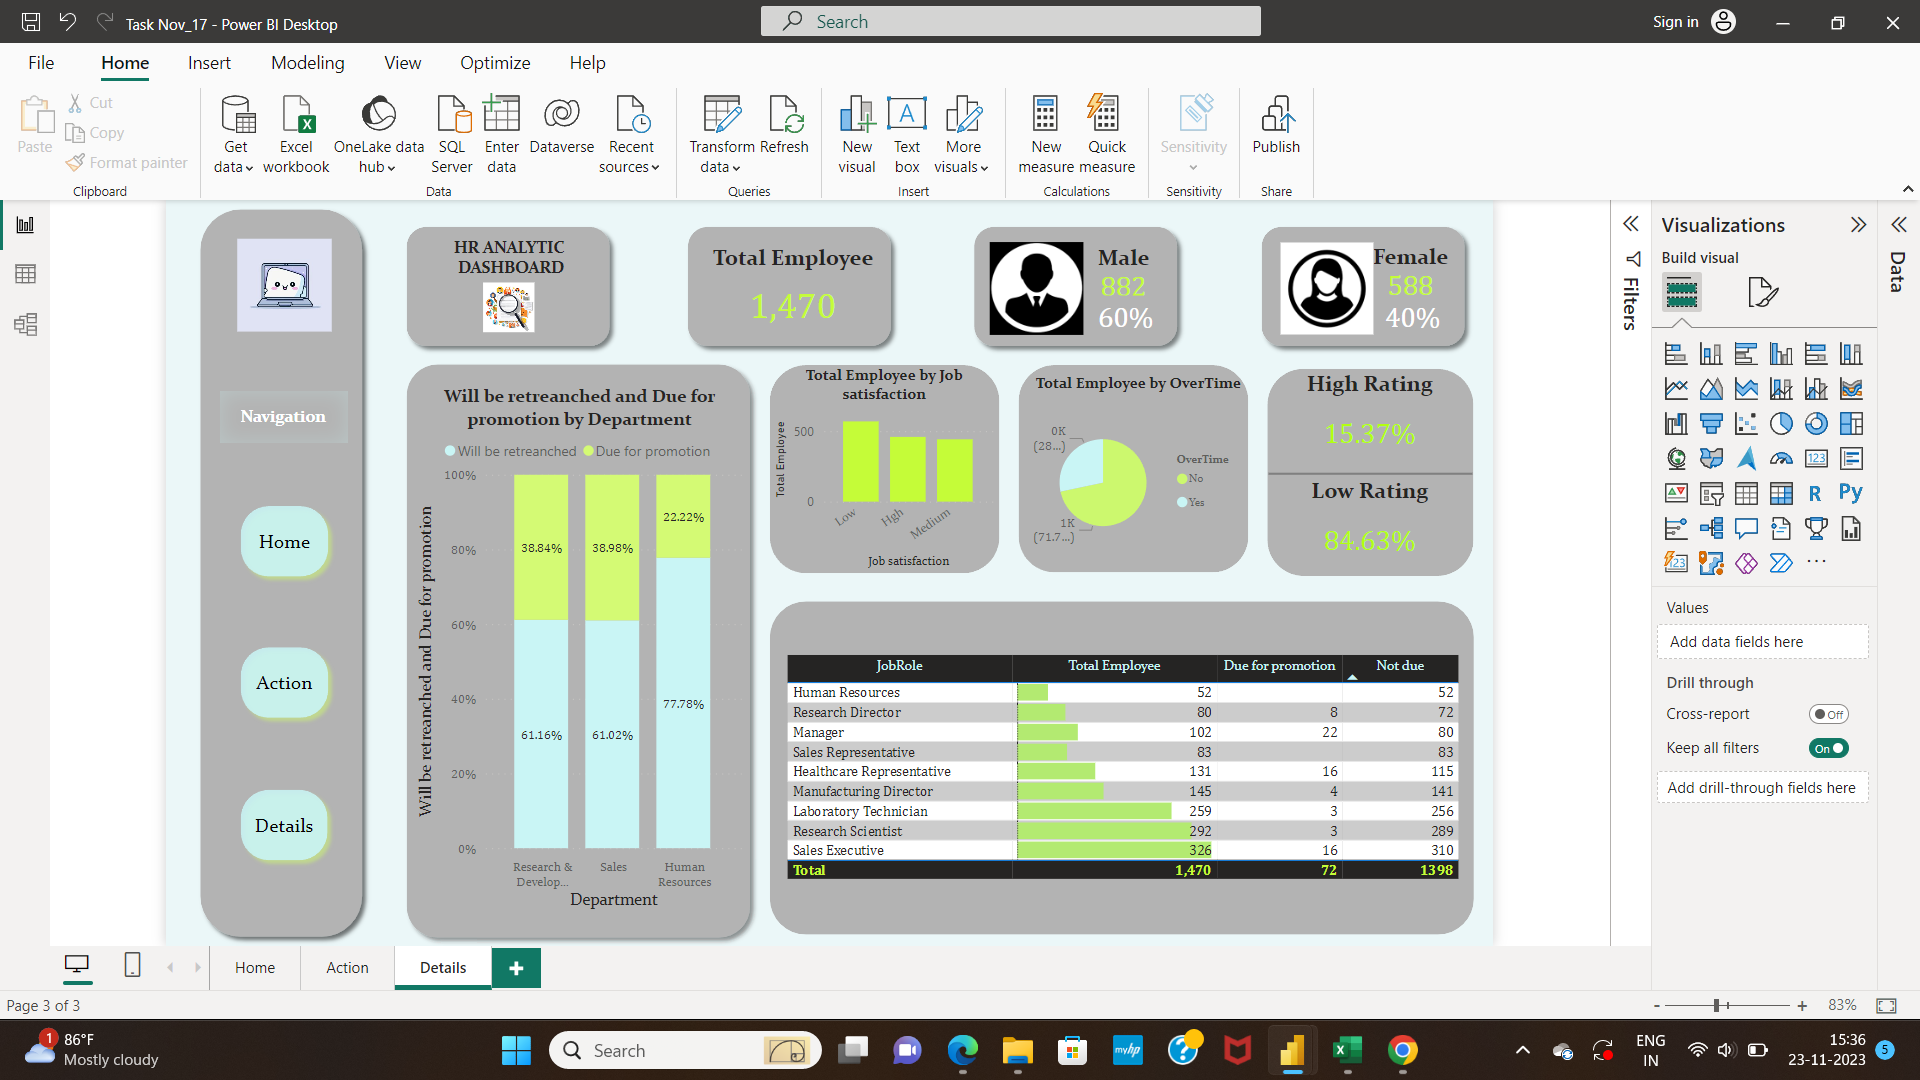

Layout of this report page (visuals, bound fields, positions):
{"tool":"powerbi","page":{"name":"Details","canvas":[1280,720],"ordinal":2},"visuals":[{"type":"shape","box":[24.7,0,174.1,719.8],"z":0},{"type":"shape","box":[223.5,16.5,213.9,133],"z":1000},{"type":"shape","box":[494.9,16.5,213.9,133],"z":2000},{"type":"shape","box":[770.5,16.5,213.9,133],"z":3000},{"type":"shape","box":[1047.5,16.5,213.9,133],"z":4000},{"type":"textbox","box":[237.2,31.5,190.6,65.8],"z":5000},{"type":"image","box":[300,75,60,58],"z":6000},{"type":"card","title":"Total Employee","fields":{"Values":["new measures.Total Emp"]},"box":[512,34,185,98],"z":7000},{"type":"card","title":"Male","fields":{"Values":["new measures.Male"]},"box":[877.5,34.3,91.9,63.1],"z":8000},{"type":"card","title":"Female","fields":{"Values":["new measures.Female"]},"box":[1154.4,32.9,93.2,64.4],"z":9000},{"type":"card","title":"Female","fields":{"Values":["new measures.% Female"]},"box":[1154.4,79.5,97.3,64.4],"z":10000},{"type":"card","title":"Male","fields":{"Values":["new measures.% male"]},"box":[877.5,79.5,96,64.4],"z":11000},{"type":"image","box":[790,35,100,100],"z":12000},{"type":"image","box":[1069.4,35.6,100.1,98.7],"z":13000},{"type":"shape","box":[222.9,149.4,349.4,571.1],"z":14000},{"type":"hundredPercentStackedColumnChart","fields":{"Y":["new measures.Will be retreanched","new measures.Due for promotion"],"Category":["Sheet1.Department"]},"box":[237.3,178,323,511],"z":15000},{"type":"shape","box":[581.9,159,221.7,201],"z":16000},{"type":"columnChart","fields":{"Category":["Sheet1.Job satisfaction"],"Y":["new measures.Total Employee"]},"box":[582.5,160.4,221,200.2],"z":17000},{"type":"shape","box":[823,159.2,221.9,200.2],"z":18000},{"type":"pieChart","fields":{"Y":["new measures.Total Employee"],"Category":["Sheet1.OverTime"]},"box":[828.5,167.6,219.5,193],"z":19000},{"type":"shape","box":[581.9,386.7,679.5,321.7],"z":20000},{"type":"tableEx","fields":{"Values":["Sheet1.JobRole","new measures.Total Employee","new measures.Due for promotion","new measures.Not due"]},"box":[593,434,669.9,265.1],"z":21000},{"type":"shape","box":[1062,163,199,200],"z":22000},{"type":"shape","box":[1063.7,164,197,200.2],"z":23000},{"type":"card","title":"High Rating","fields":{"Values":["new measures.% High Rating"]},"box":[1067.3,164,188.1,96.5],"z":24000},{"type":"card","title":"Low Rating","fields":{"Values":["new measures.% Low Rating"]},"box":[1067.3,267.7,188.1,96.5],"z":25000},{"type":"actionButton","box":[64.7,287.2,100.8,84.5],"z":26000},{"type":"actionButton","box":[64.7,423.9,100.8,84.5],"z":27000},{"type":"actionButton","box":[65.1,560.6,100.1,84.4],"z":28000},{"type":"image","box":[64.7,32.7,100.8,99.4],"z":29000},{"type":"textbox","box":[59.1,184.5,107.3,50.7],"z":30000}]}

Visuals, with their boxes on the page's 1280x720 design canvas (x1, y1, x2, y2). These are canvas units, not pixel positions in the 1920x1080 screenshot, which may show the page scaled, cropped or inside an application window:
shape: 25, 0, 199, 720
shape: 224, 16, 437, 150
shape: 495, 16, 709, 150
shape: 770, 16, 984, 150
shape: 1048, 16, 1261, 150
textbox: 237, 32, 428, 97
image: 300, 75, 360, 133
"Total Employee" card: 512, 34, 697, 132
"Male" card: 878, 34, 969, 97
"Female" card: 1154, 33, 1248, 97
"Female" card: 1154, 80, 1252, 144
"Male" card: 878, 80, 974, 144
image: 790, 35, 890, 135
image: 1069, 36, 1170, 134
shape: 223, 149, 572, 720
hundredPercentStackedColumnChart - new measures.Will be retreanched x new measures.Due for promotion: 237, 178, 560, 689
shape: 582, 159, 804, 360
columnChart - Sheet1.Job satisfaction x new measures.Total Employee: 582, 160, 804, 361
shape: 823, 159, 1045, 359
pieChart - new measures.Total Employee x Sheet1.OverTime: 828, 168, 1048, 361
shape: 582, 387, 1261, 708
tableEx - Sheet1.JobRole x new measures.Total Employee: 593, 434, 1263, 699
shape: 1062, 163, 1261, 363
shape: 1064, 164, 1261, 364
"High Rating" card: 1067, 164, 1255, 260
"Low Rating" card: 1067, 268, 1255, 364
actionButton: 65, 287, 166, 372
actionButton: 65, 424, 166, 508
actionButton: 65, 561, 165, 645
image: 65, 33, 166, 132
textbox: 59, 184, 166, 235
